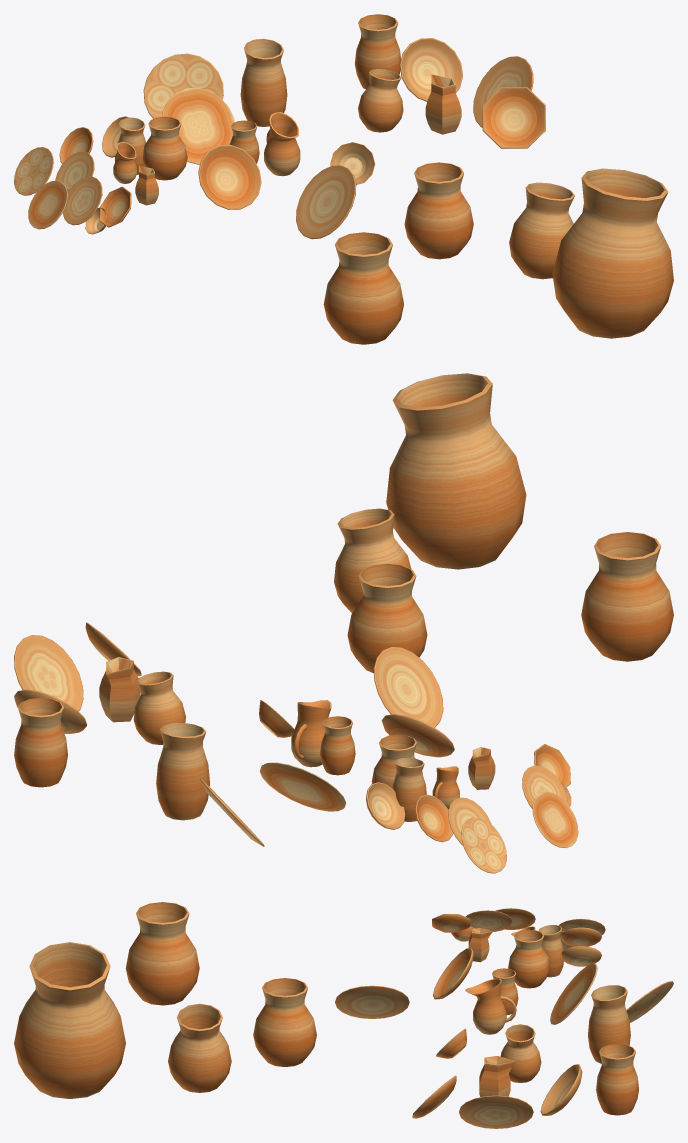
File: PotteryA01.fbx
The picture shows the model from 3 angles, top to bottom: view 1: azimuth 30°, elevation 25°; view 2: azimuth 150°, elevation 25°; view 3: azimuth 270°, elevation 25°; orthographic projection. The views are drawn at different scales.
Parts seen in each view (by area): view 1: pCylinder17, pCylinder18, pCylinder5, pCylinder4, polySurface6, pCylinder1, polySurface32, pCylinder6, polySurface30, polySurface31, polySurface29, pCylinder2 (+17 smaller); view 2: pCylinder17, pCylinder18, pCylinder5, pCylinder1, pCylinder4, pCylinder2, pCylinder6, polySurface7, pottery_clay:pCylinder4, polySurface6, pCylinder16, polySurface1 (+16 smaller); view 3: pCylinder17, pCylinder18, pCylinder5, pCylinder4, pCylinder2, pCylinder1, polySurface7, pCylinder6, pottery_clay:pCylinder5, polySurface1, pottery_clay:pCylinder4, polySurface6 (+15 smaller).
Part boxes in pixels (x1,y1,x2,y2): pCylinder17: [552, 168, 673, 338]; pCylinder18: [323, 232, 403, 344]; pCylinder5: [404, 162, 473, 259]; pCylinder4: [509, 182, 574, 279]; polySurface6: [162, 87, 234, 165]; pCylinder1: [240, 38, 287, 126]; polySurface32: [482, 87, 545, 148]; pCylinder6: [296, 165, 356, 239]; polySurface30: [198, 145, 261, 209]; polySurface31: [143, 53, 223, 118]; polySurface29: [399, 38, 462, 101]; pCylinder2: [355, 14, 400, 89]; pCylinder17: [386, 373, 526, 569]; pCylinder18: [581, 532, 673, 661]; pCylinder5: [347, 563, 427, 673]; pCylinder1: [156, 723, 209, 820]; pCylinder4: [334, 508, 411, 612]; pCylinder2: [14, 697, 67, 787]; pCylinder6: [373, 647, 443, 727]; polySurface7: [14, 635, 83, 711]; pottery_clay:pCylinder4: [133, 671, 185, 744]; polySurface6: [259, 762, 345, 811]; pCylinder16: [99, 657, 140, 722]; polySurface1: [291, 700, 331, 767]; pCylinder17: [14, 942, 125, 1098]; pCylinder18: [125, 902, 199, 1005]; pCylinder5: [253, 978, 316, 1066]; pCylinder4: [168, 1003, 231, 1092]; pCylinder2: [596, 1044, 638, 1115]; pCylinder1: [588, 985, 630, 1063]; polySurface7: [459, 1095, 533, 1128]; pCylinder6: [335, 985, 409, 1018]; pottery_clay:pCylinder5: [508, 929, 549, 988]; polySurface1: [465, 978, 516, 1034]; pottery_clay:pCylinder4: [500, 1024, 541, 1082]; polySurface6: [550, 963, 597, 1024].
Size of the model in its own units: 2.79 by 0.7919 by 3.58.
